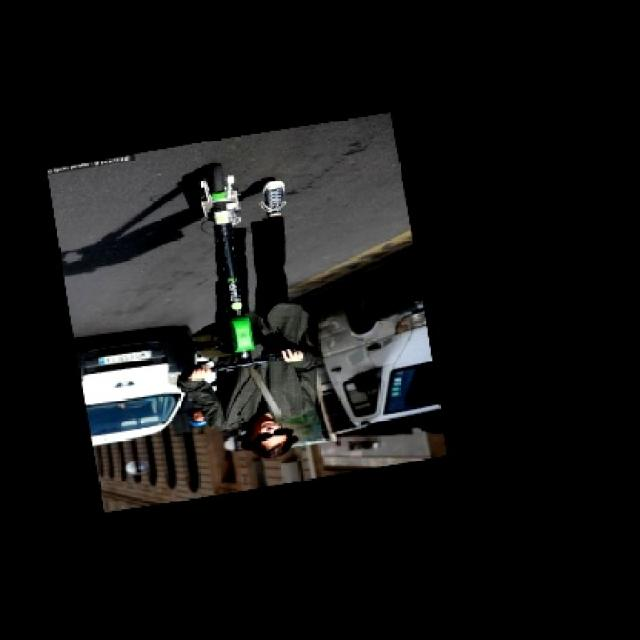bare_head: (247, 414, 315, 467)
human: (207, 218, 338, 481)
kickboard: (172, 174, 286, 225)
